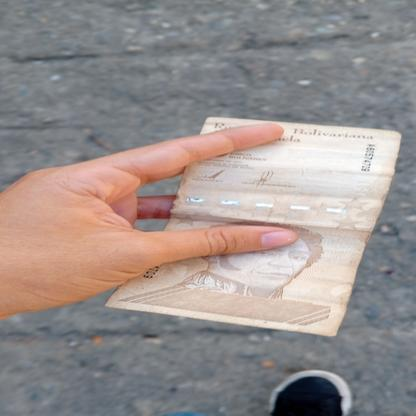five-front-vef: (103, 116, 403, 337)
